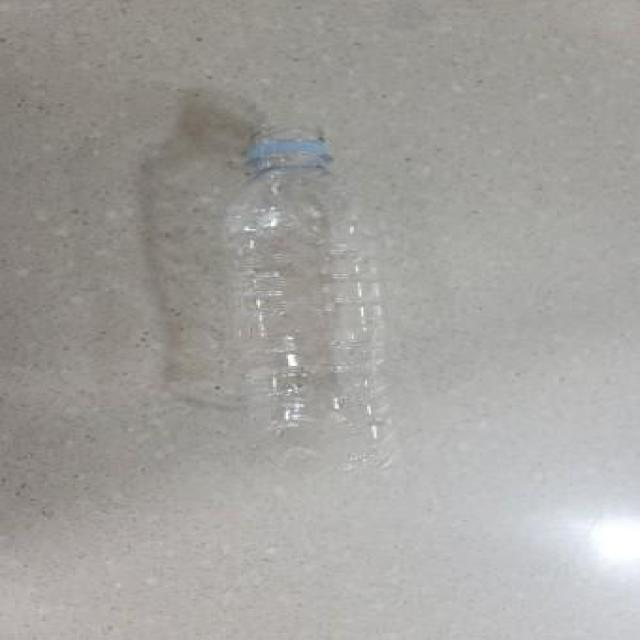bottle: (211, 120, 378, 437)
